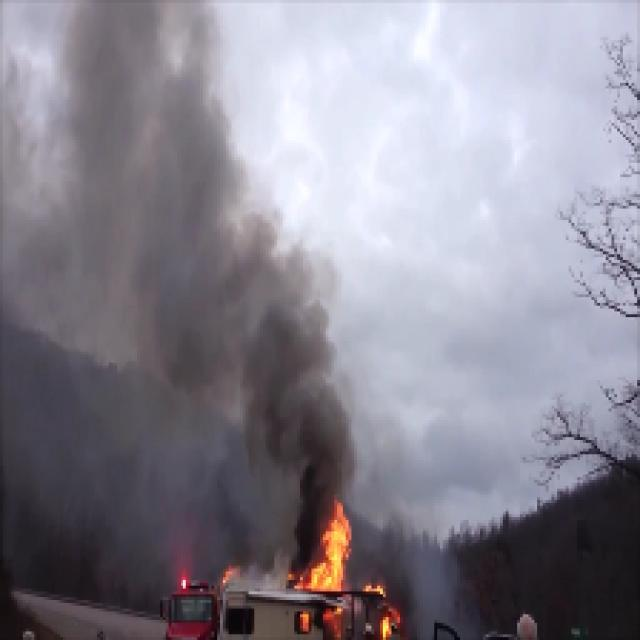fire: (317, 506, 352, 584)
smoke: (199, 220, 267, 416), (279, 352, 347, 493)
